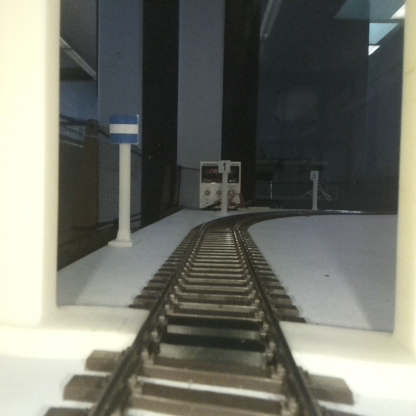start: (109, 115, 139, 246)
white-info-1: (218, 160, 230, 214)
